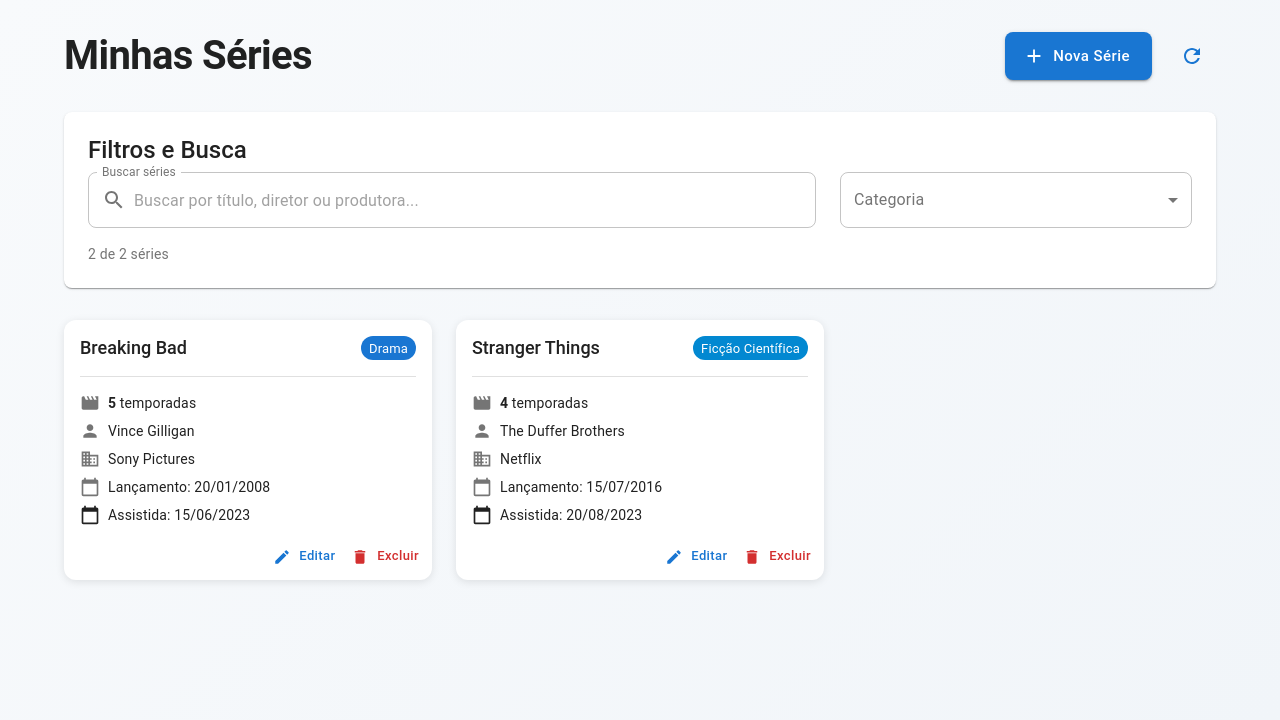
Test: SerieList › deve abrir dialog de confirmação ao clicar em excluir
The image size is (1280, 720).
Click the button "Excluir" below "15/06/2023".
click(386, 557)  # box [348,542,424,572]
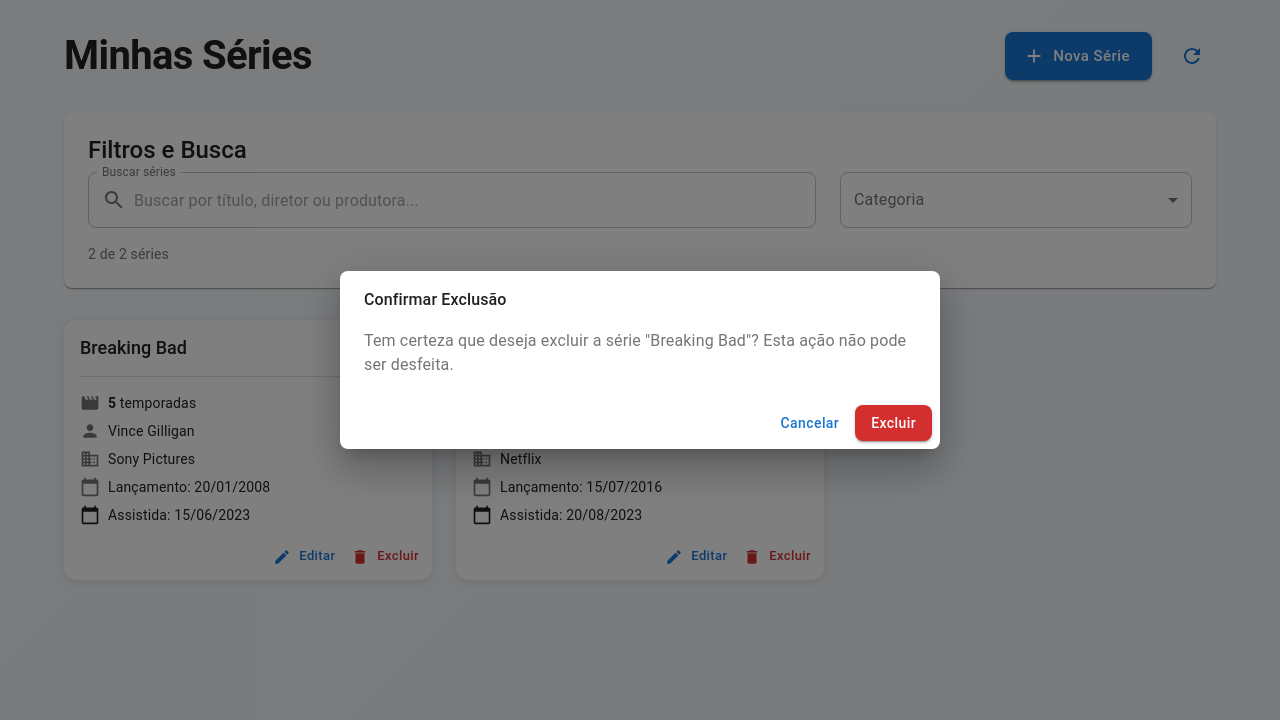
Expected: the heading "Confirmar Exclusão" is shown, [364,290,507,309]
Expected: the text "Tem certeza que deseja excluir a série \"Breaking Bad\"" is shown, [364,328,916,376]
